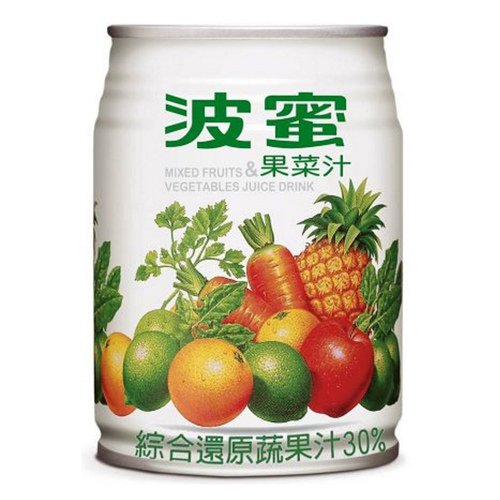vegetables juice: (80, 10, 404, 478)
